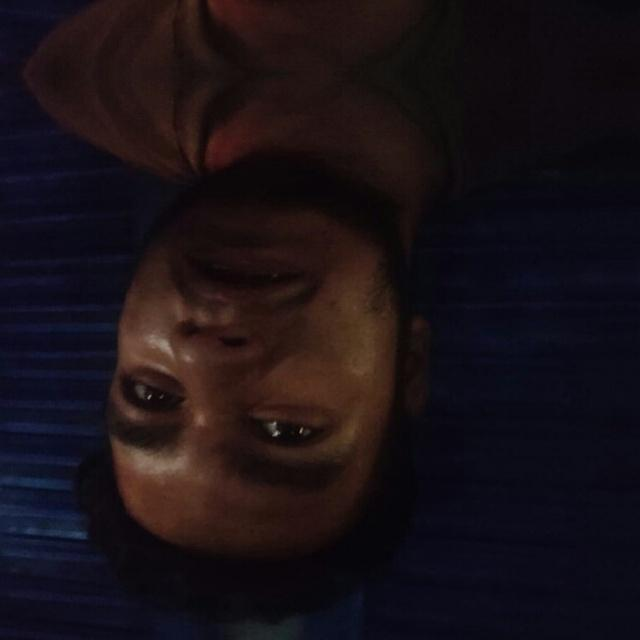Disgust: (90, 153, 425, 604)
